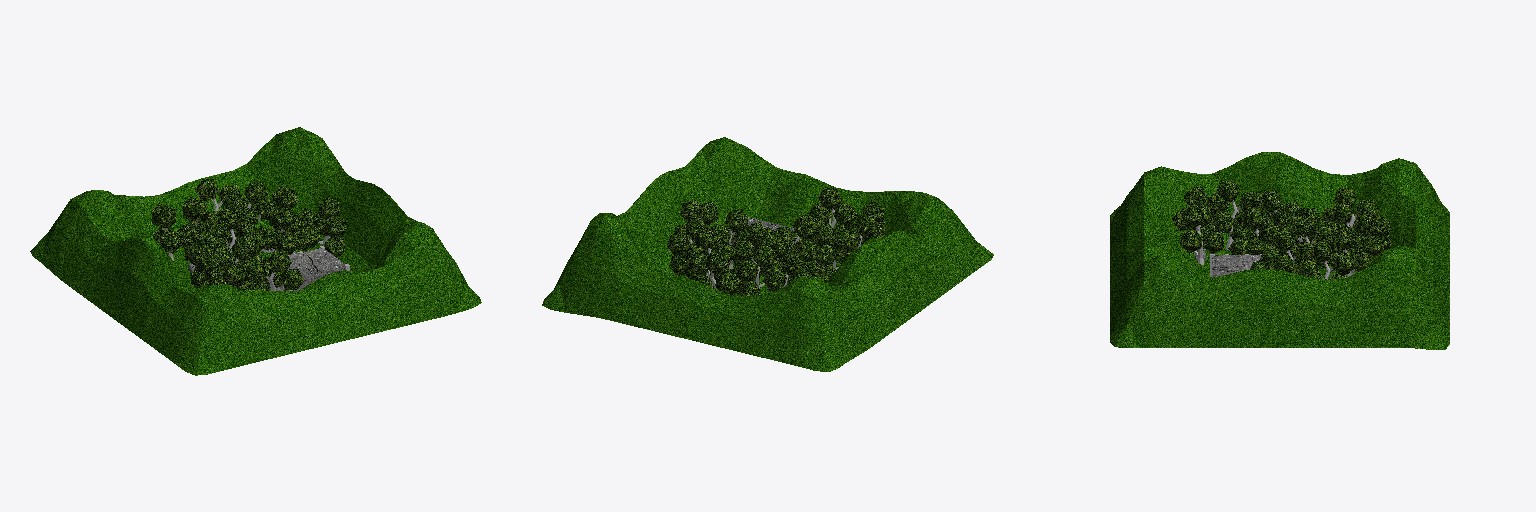
3 views of the same model, side by side, from view 1: azimuth 30°, elevation 25°; view 2: azimuth 150°, elevation 25°; view 3: azimuth 270°, elevation 25° (orthographic).
Visible parts, largest first — view 1: Plane, Box1; view 2: Plane; view 3: Plane, Box1.
Boxes of the visible parts, x1,y1,x2,y2 form: Plane: [30, 127, 481, 375]; Box1: [283, 248, 345, 290]; Plane: [542, 137, 993, 371]; Plane: [1110, 152, 1449, 349]; Box1: [1212, 255, 1260, 277].
Size of the model in its own units: 40 by 15.71 by 40.
Materials: 5 (4 with a texture image).